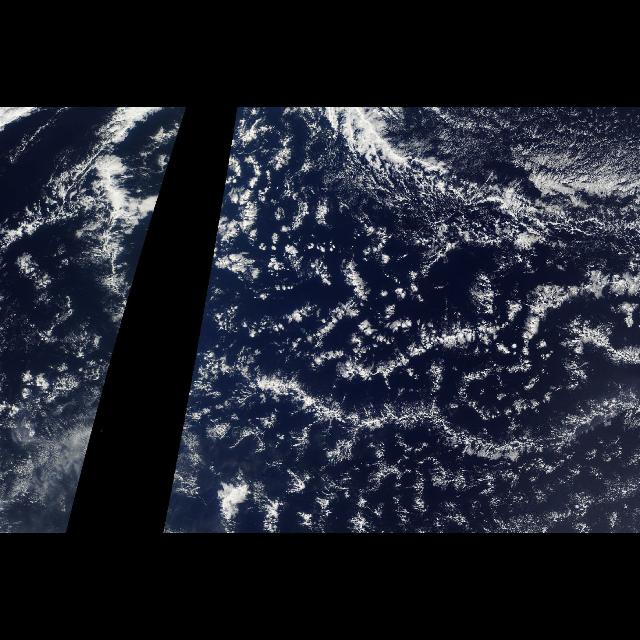Fish: (202, 357, 640, 457), (302, 109, 632, 225)
Flower: (228, 190, 640, 398)
Gravel: (217, 206, 636, 360), (179, 462, 637, 532)
Sugar: (15, 447, 76, 507)
